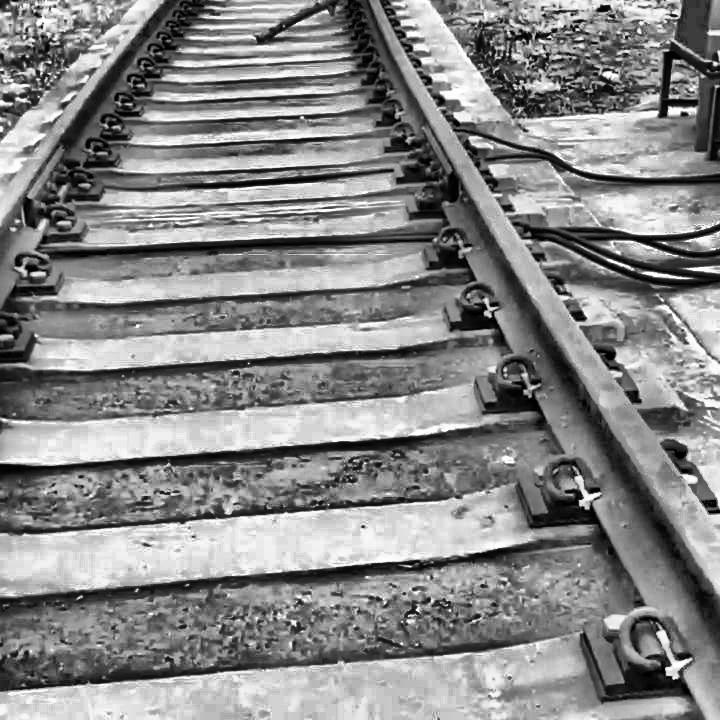Trash: (235, 0, 349, 45)
